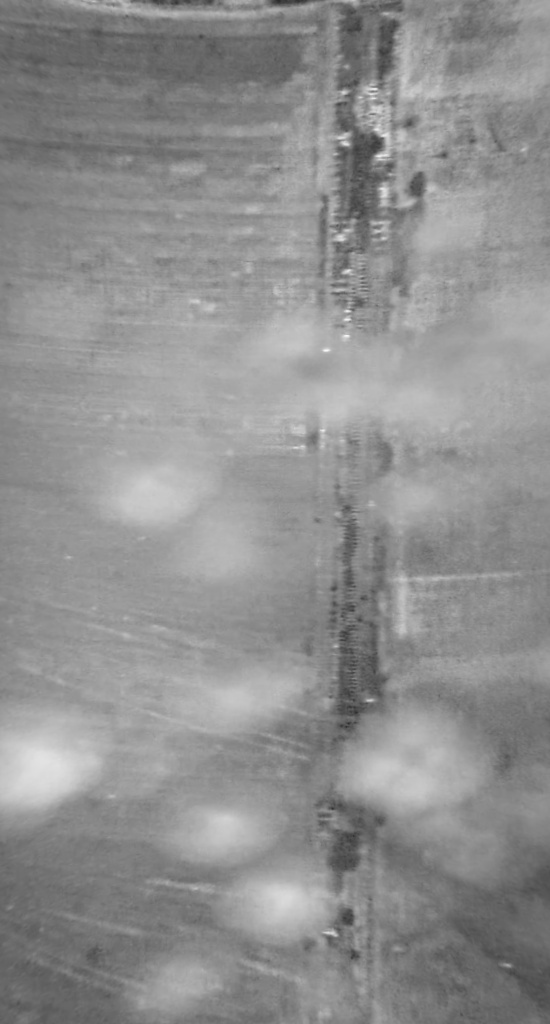splice: (319, 1, 411, 1024)
